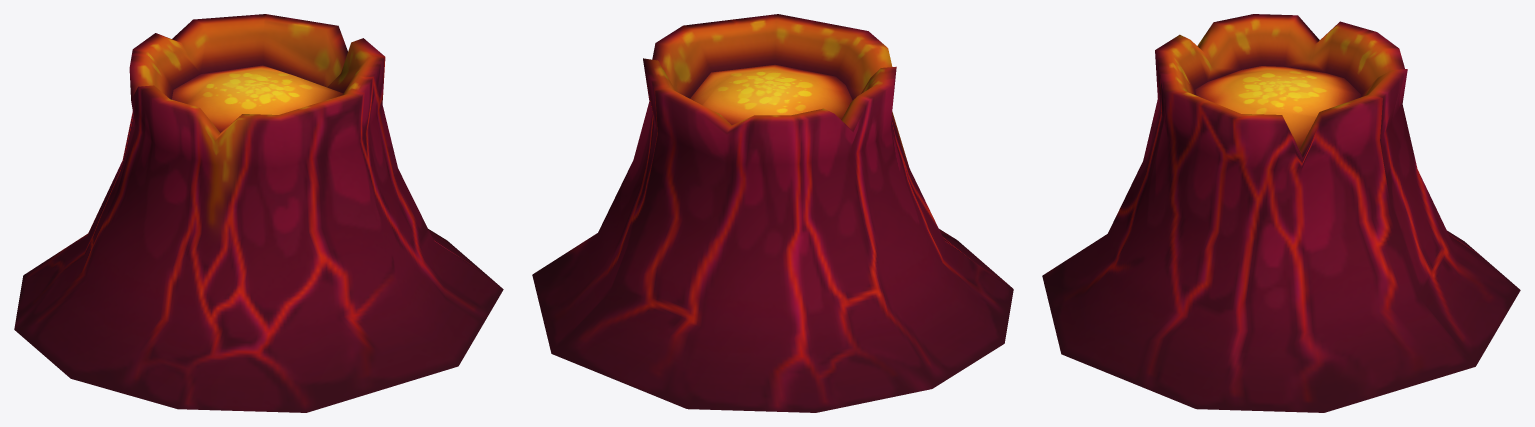
The model's file is Volcano_02.FBX.
3 renders of one model, left to right at view 1: azimuth 30°, elevation 25°; view 2: azimuth 150°, elevation 25°; view 3: azimuth 270°, elevation 25°, orthographic.
Parts seen in each view (by area): view 1: Volcano_02; view 2: Volcano_02; view 3: Volcano_02.
Part boxes in pixels (<box>): Volcano_02: <box>14,14,503,412</box>; Volcano_02: <box>532,14,1013,412</box>; Volcano_02: <box>1042,14,1520,412</box>.
Size of the model in its own units: 247 by 135 by 243.
